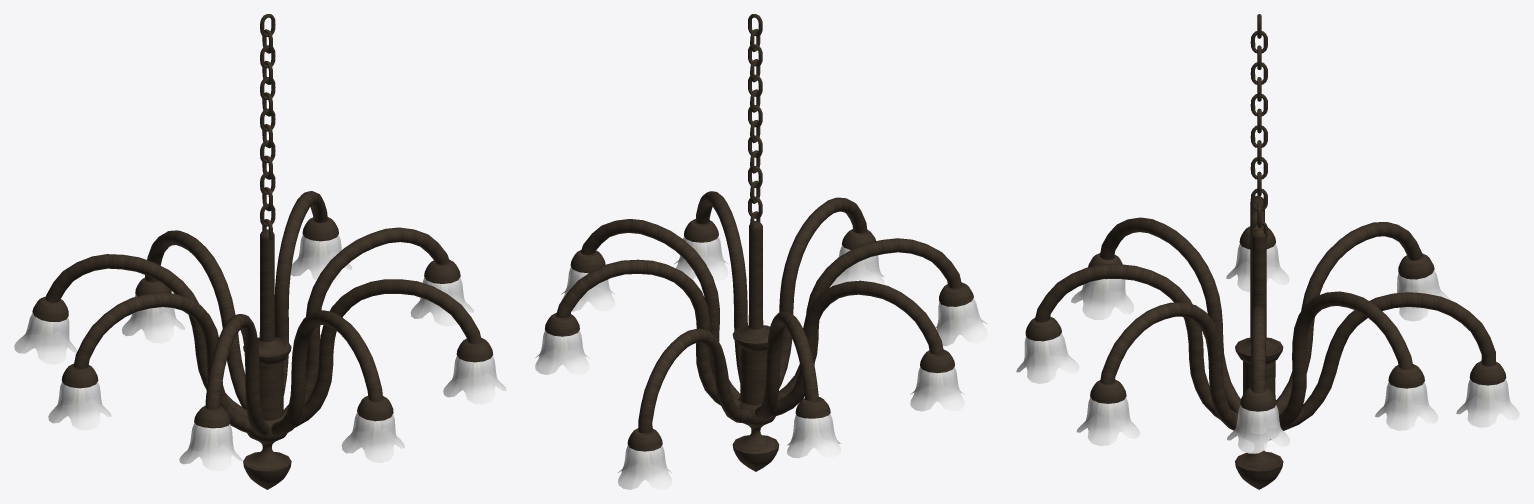
File: chandelier.glb
3 renders of one model, left to right at view 1: azimuth 30°, elevation 25°; view 2: azimuth 150°, elevation 25°; view 3: azimuth 270°, elevation 25°, orthographic. The views are drawn at different scales.
Visible parts, largest first — view 1: Object_18, Object_28, Object_27; view 2: Object_18, Object_28, Object_27; view 3: Object_18, Object_28, Object_27.
Part boxes in pixels (x1,y1,x2,y2): Object_18: [32, 191, 493, 489]; Object_28: [14, 235, 506, 470]; Object_27: [260, 14, 275, 211]; Object_18: [545, 191, 973, 471]; Object_28: [535, 236, 987, 489]; Object_27: [748, 14, 762, 203]; Object_18: [1025, 195, 1506, 489]; Object_28: [1016, 243, 1519, 453]; Object_27: [1250, 14, 1267, 210].
Bounding box in the file's own units: 3.66 × 3.98 × 3.82.
Materials: 27 (27 with a texture image).
